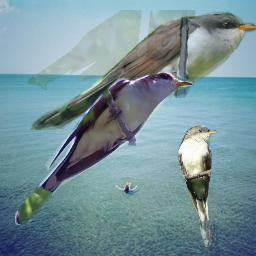Cuckoo: (15, 71, 193, 225), (28, 10, 256, 130), (178, 125, 218, 248)
